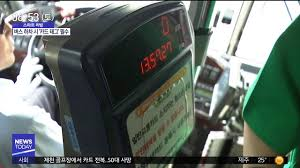terminal: (42, 1, 200, 168)
